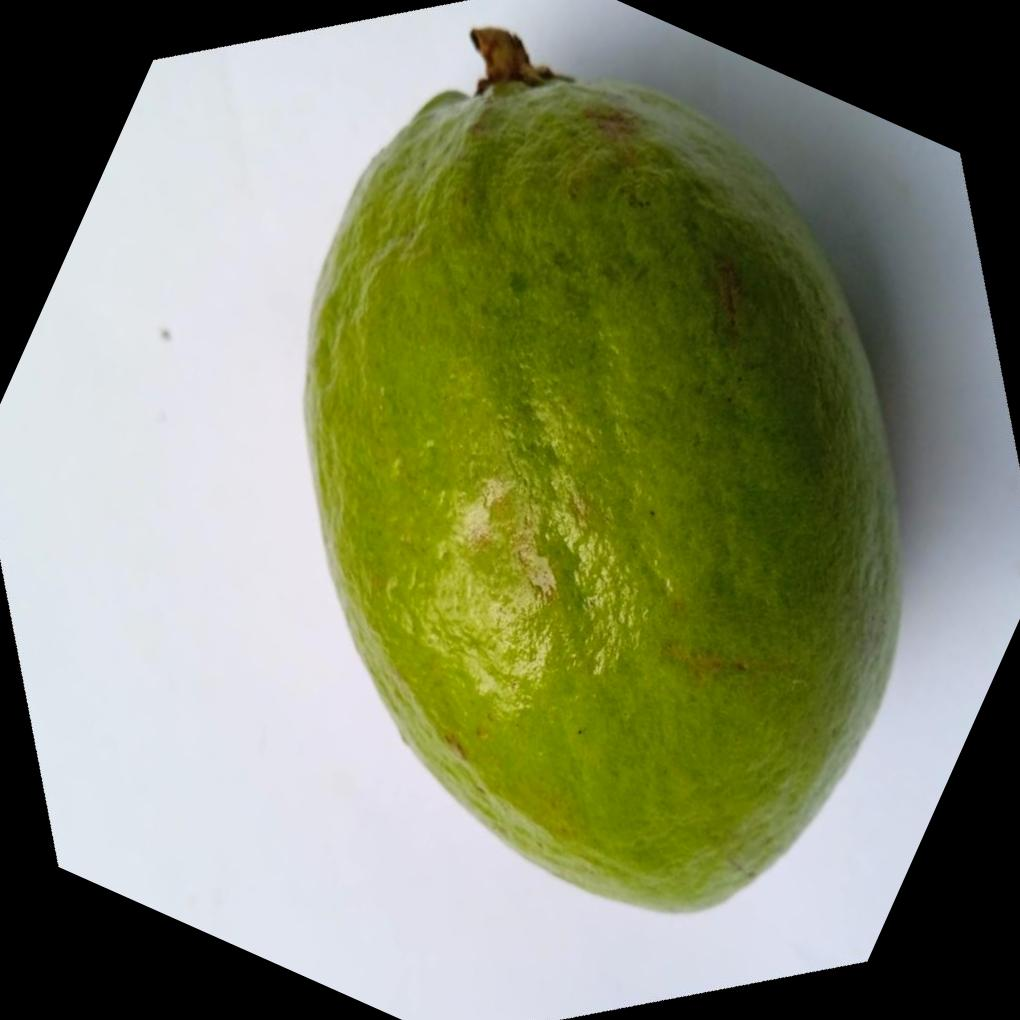FreshGuava: (305, 67, 905, 914)
